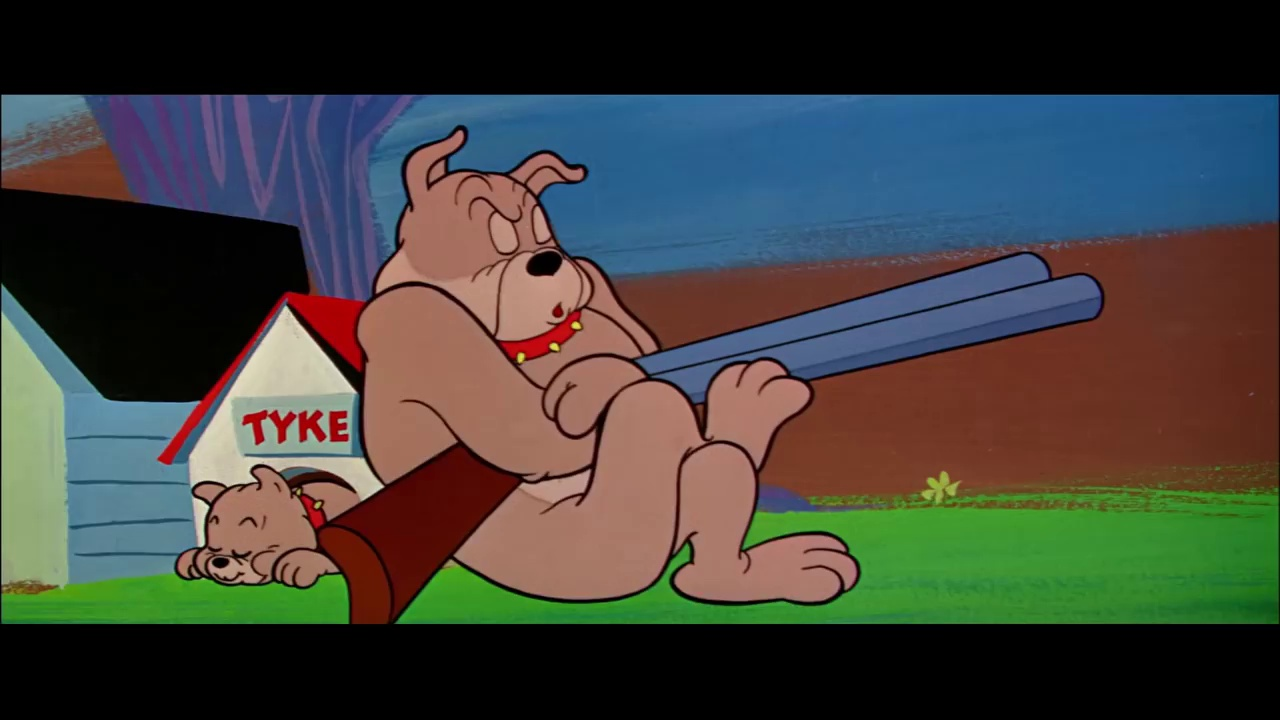spike: (370, 125, 609, 368)
